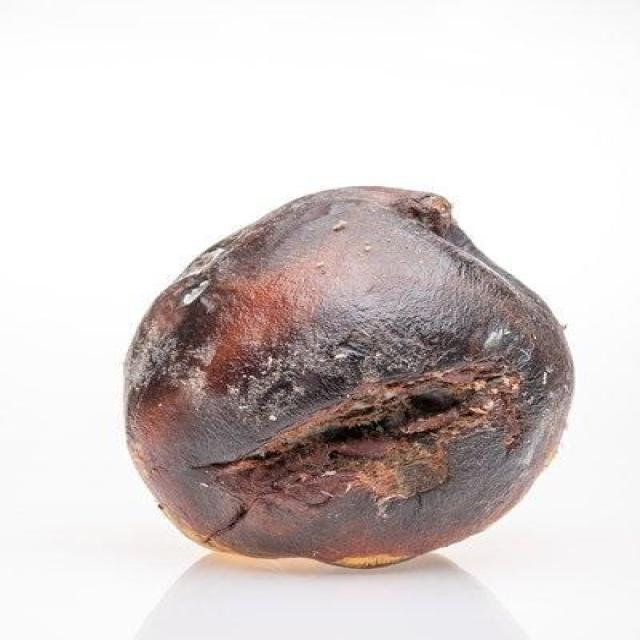organic: (123, 186, 576, 574)
